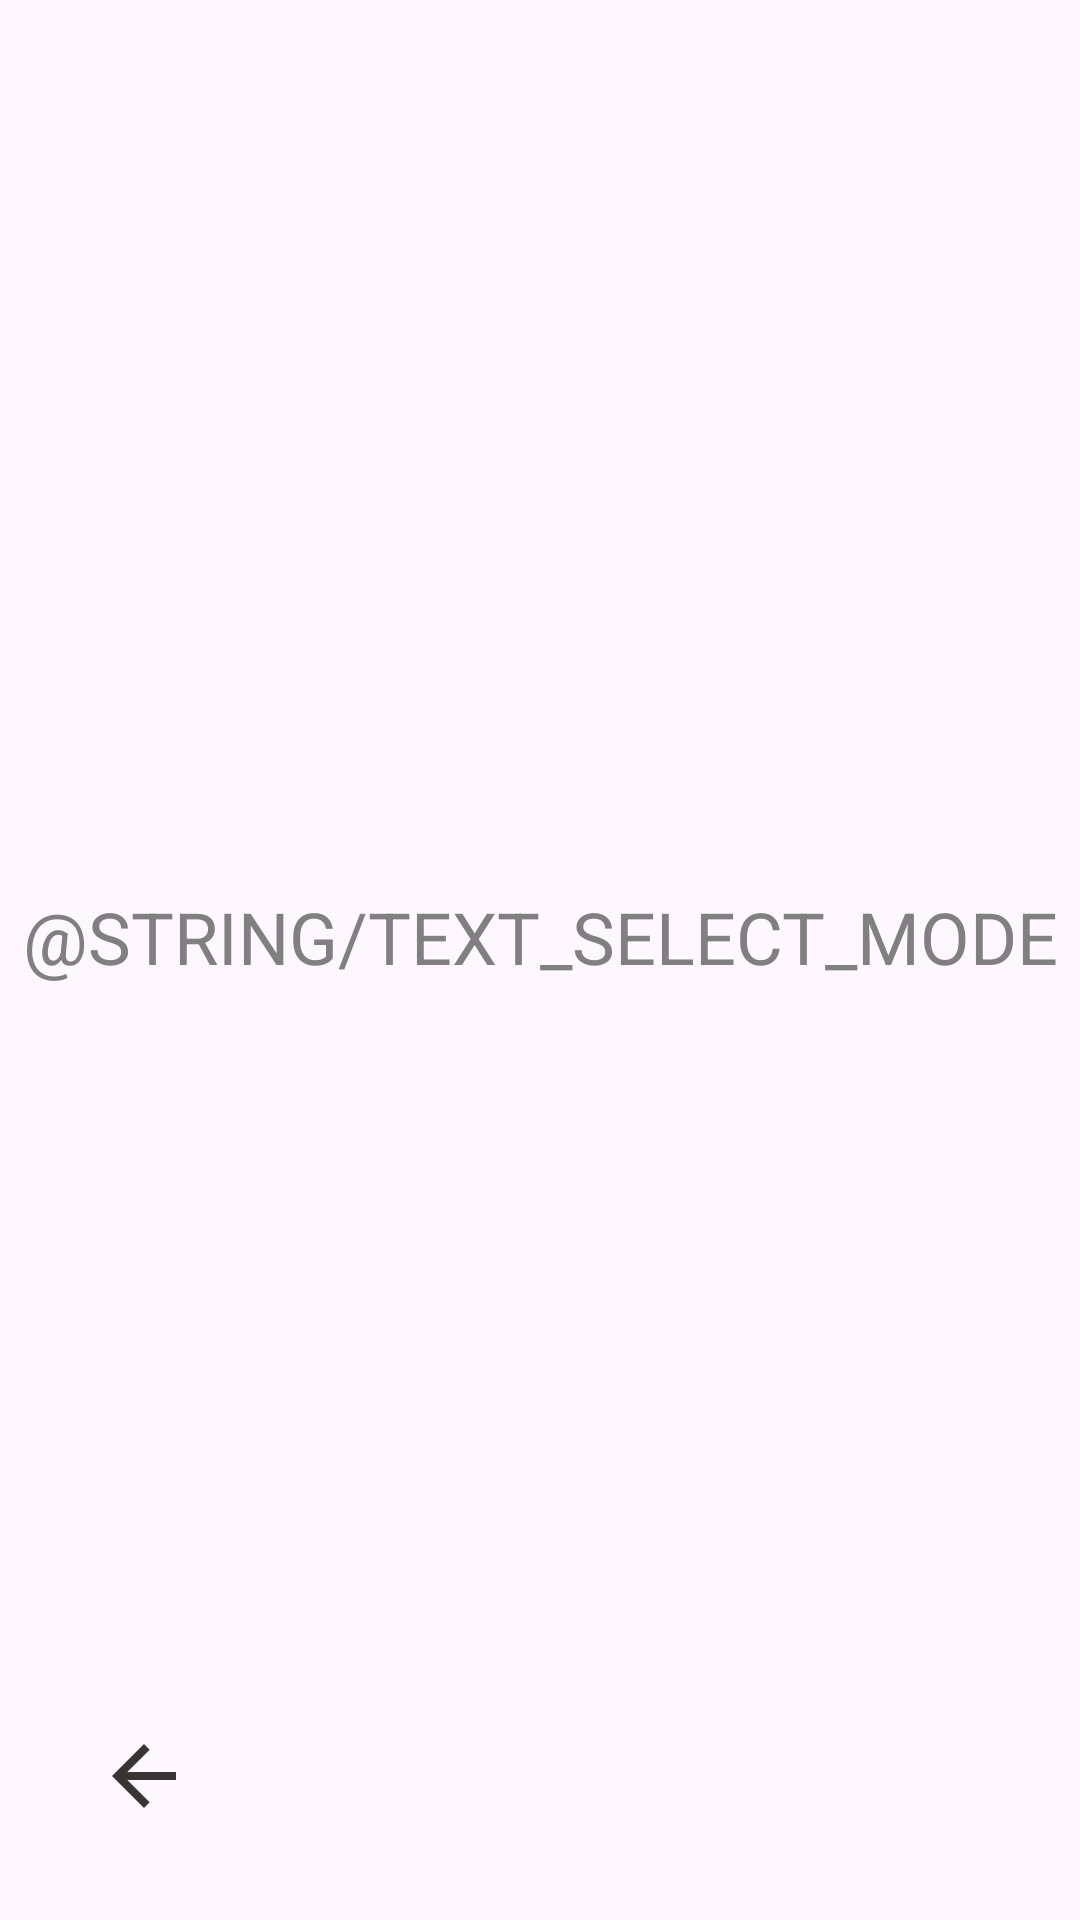

Icon click points for this 1080 x 1920 phone screenshot, format (x,y):
arrow back: (144,1776)
